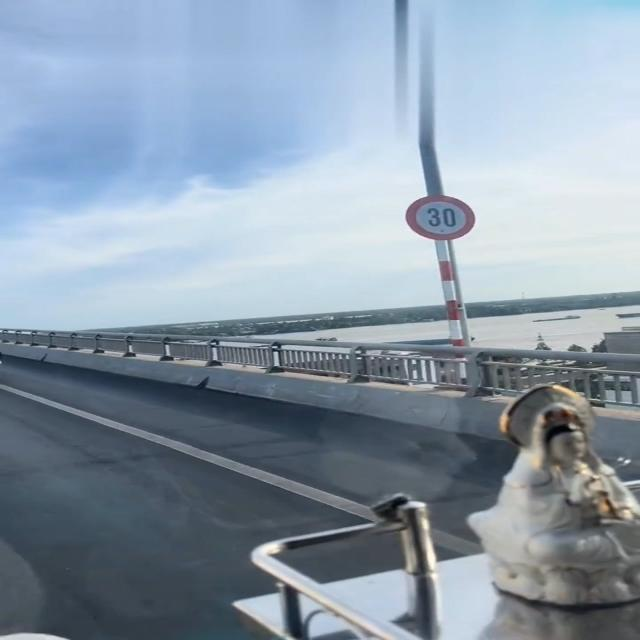127-toc-do-toi-da-30: (406, 194, 477, 238)
